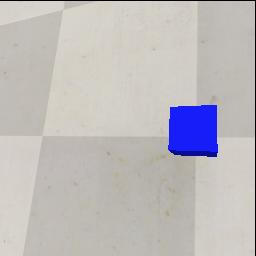box: (168, 105, 218, 157)
